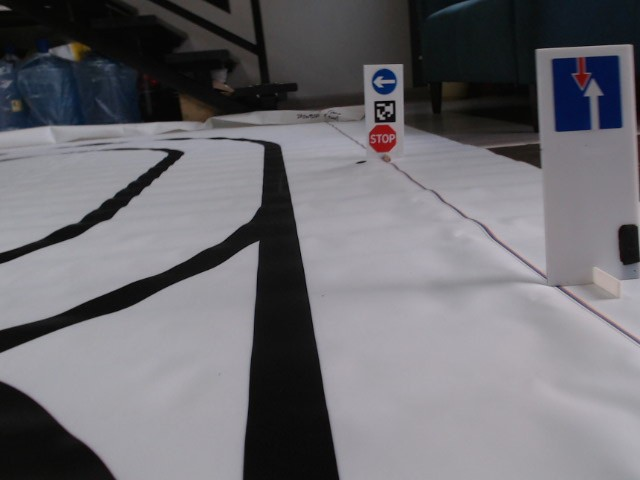Stop: (368, 123, 396, 153)
priority_movement: (547, 54, 627, 135)
